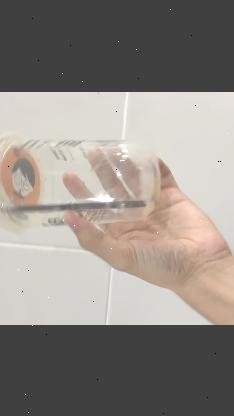Others: (0, 132, 162, 234)
